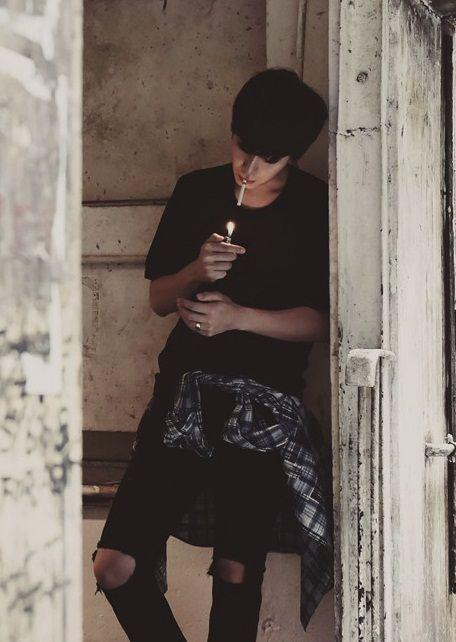cigarette: (237, 179, 247, 207)
